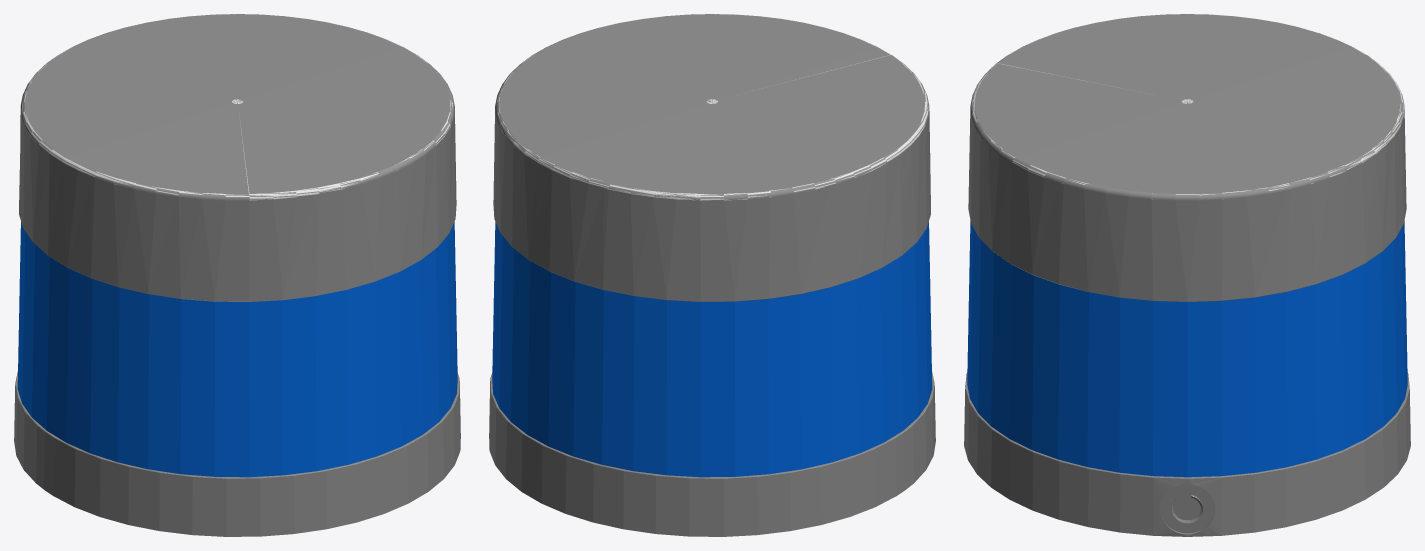
File: Velodyne.dae
3 views of the same model, side by side, from view 1: azimuth 30°, elevation 25°; view 2: azimuth 150°, elevation 25°; view 3: azimuth 270°, elevation 25° (orthographic).
Parts seen in each view (by area): view 1: 86-0138 REV 2, ENVELOPE, VLP-32C M12M; view 2: 86-0138 REV 2, ENVELOPE, VLP-32C M12M; view 3: 86-0138 REV 2, ENVELOPE, VLP-32C M12M.
Part boxes in pixels (x1,y1,x2,y2): 86-0138 REV 2, ENVELOPE, VLP-32C M12M: [14, 14, 460, 536]; 86-0138 REV 2, ENVELOPE, VLP-32C M12M: [489, 14, 935, 536]; 86-0138 REV 2, ENVELOPE, VLP-32C M12M: [964, 14, 1410, 536].
Size of the model in its own units: 0.1035 by 0.1032 by 0.0869.
